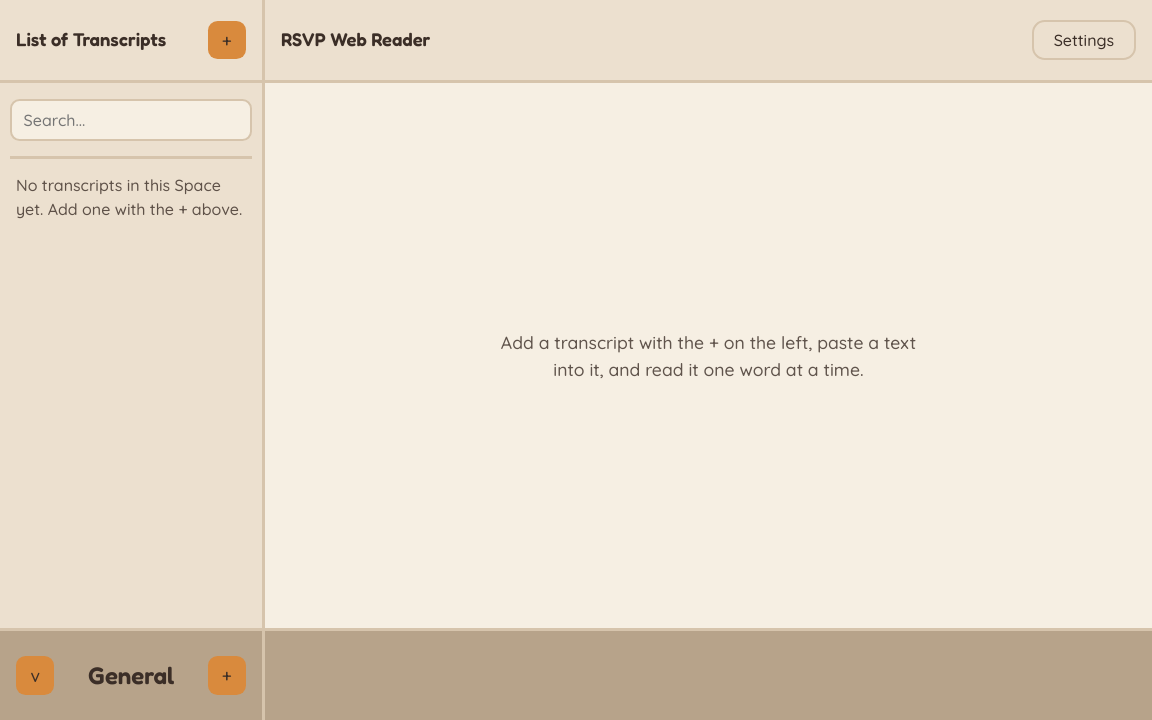
Scenario: transcripts › Cancel adds nothing
The image size is (1152, 720).
Click the button named "Add transcript": (227, 40) [208,21,246,59]
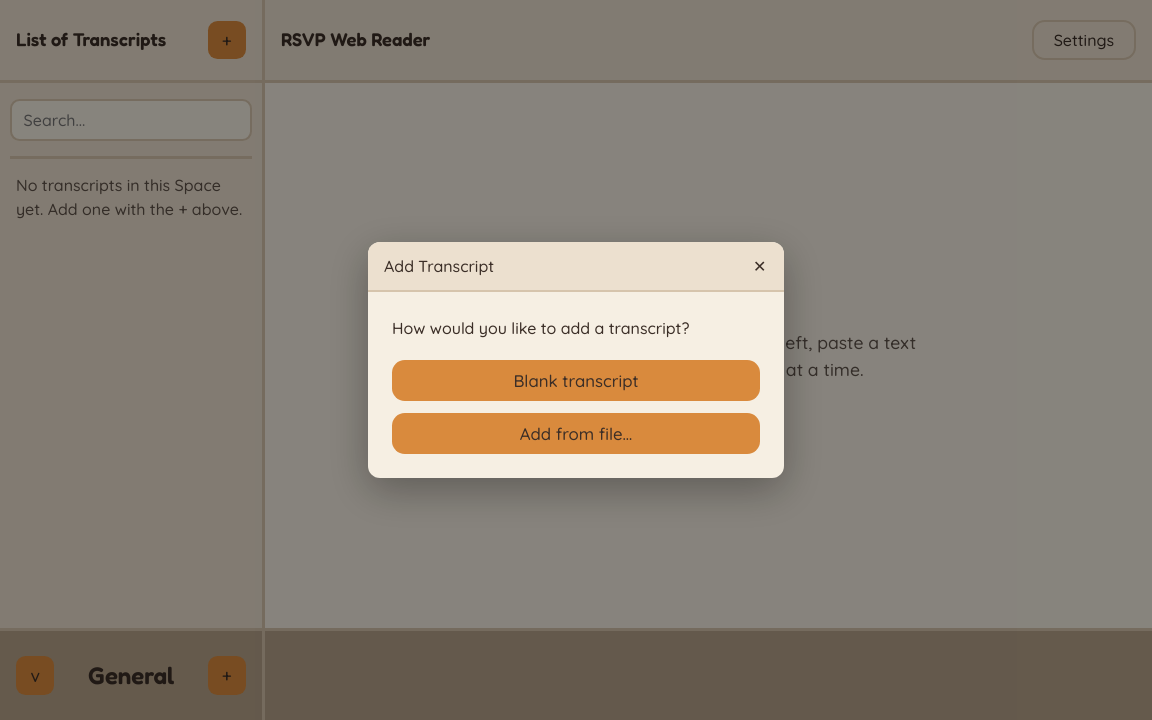
Click the button "Blank transcript": (576, 380) [392,360,760,401]
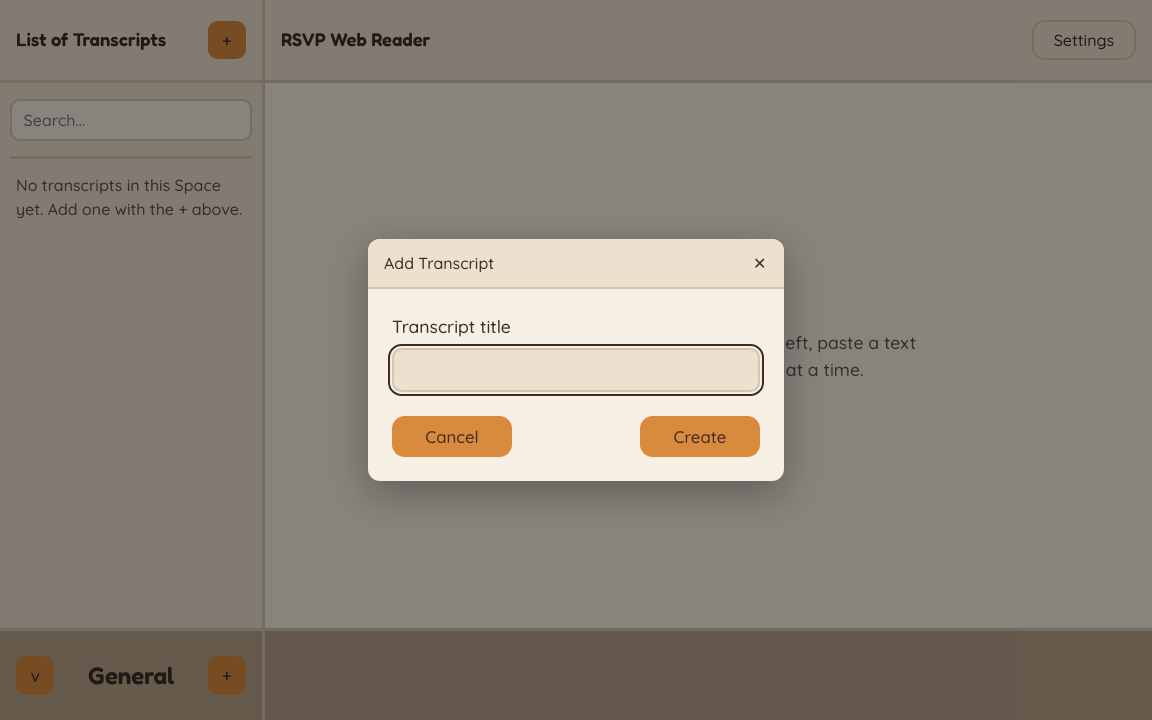
In the field: (576, 370) [392,348,760,392], type "Notes"
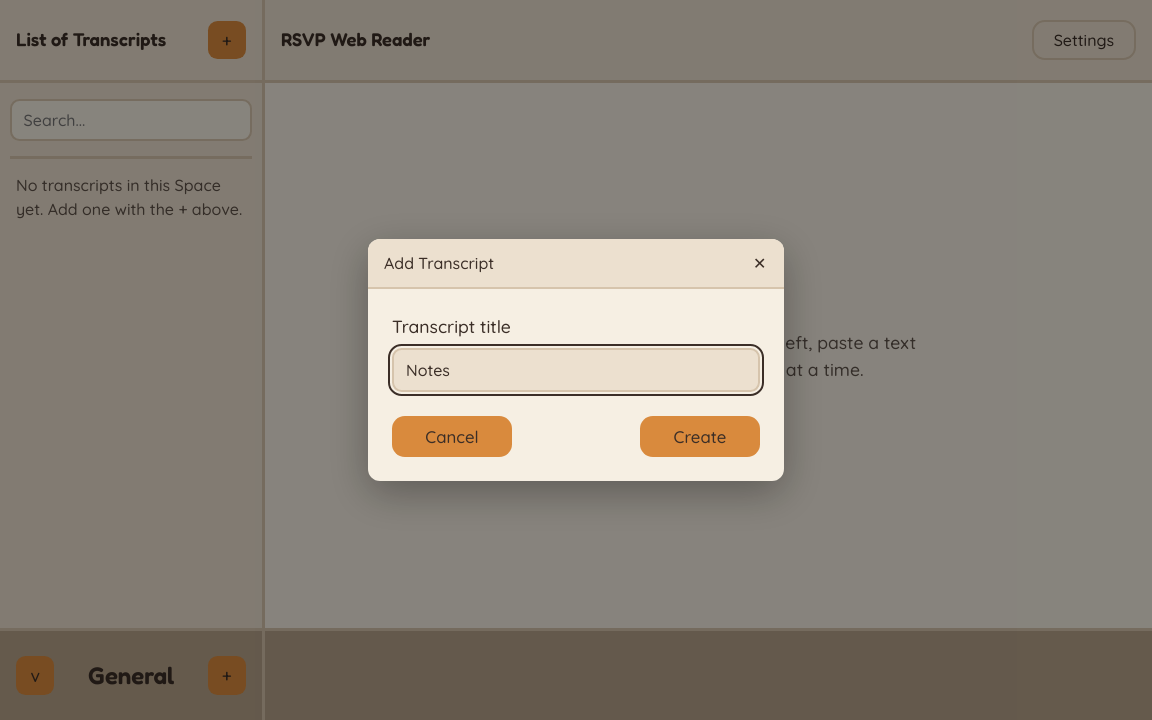
Click the button "Cancel": (452, 436) [392,416,512,457]
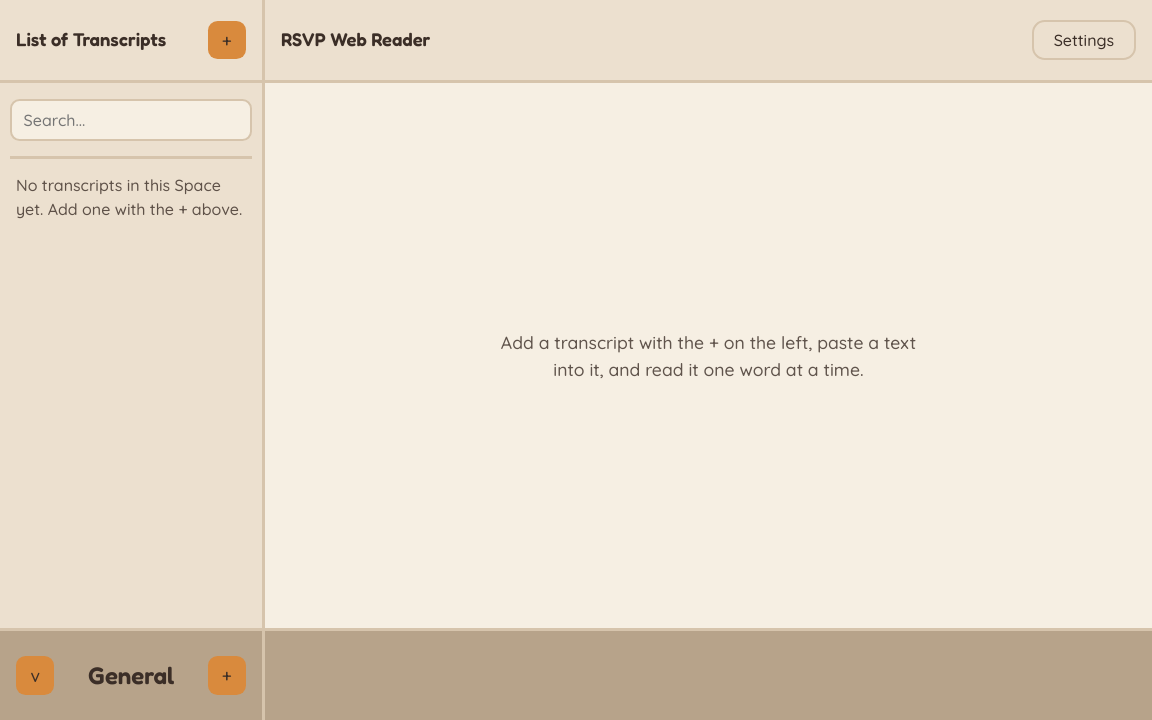
Check: the dialog is gone
